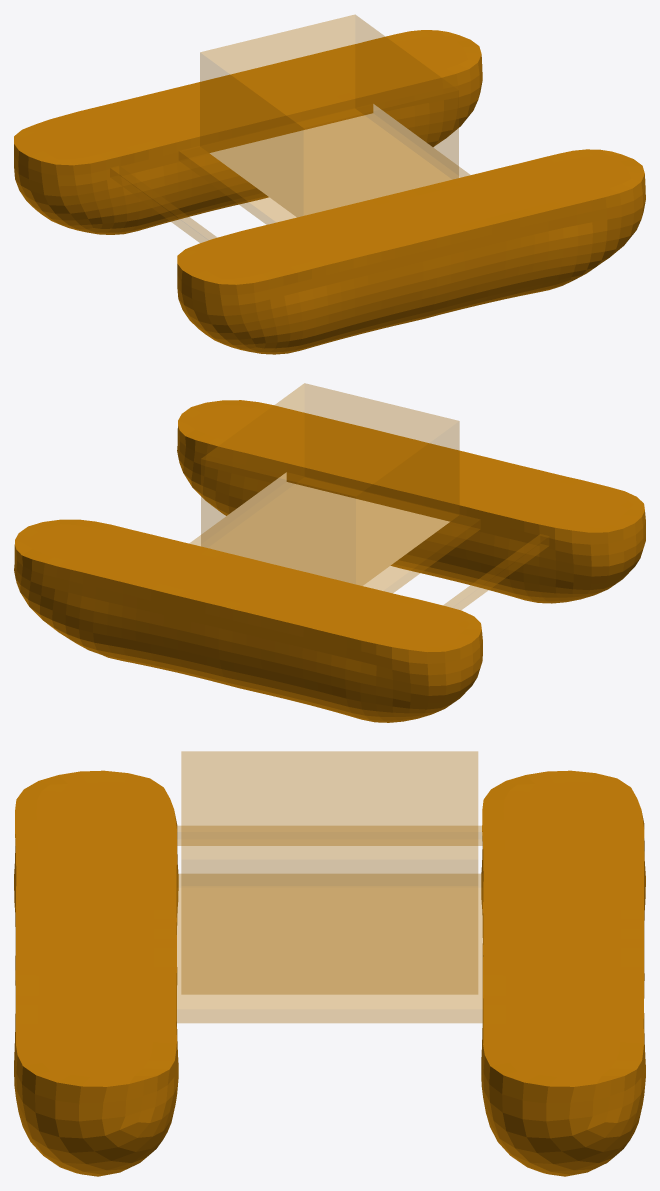
File: omni_boat_collider_simplified.obj
The picture shows the model from 3 angles, top to bottom: view 1: azimuth 30°, elevation 25°; view 2: azimuth 150°, elevation 25°; view 3: azimuth 270°, elevation 25°; orthographic projection. The views are drawn at different scales.
Parts seen in each view (by area): view 1: left_hull_collision, right_hull_collision, electrical_box_collision, electrical_box_mount_collision, sensor_rail_collision; view 2: right_hull_collision, left_hull_collision, electrical_box_collision, electrical_box_mount_collision, sensor_rail_collision; view 3: electrical_box_collision, right_hull_collision, left_hull_collision, electrical_box_mount_collision, sensor_rail_collision.
Boxes of the visible parts, x1=… form: left_hull_collision: x1=177, y1=149, x2=645, y2=354; right_hull_collision: x1=14, y1=30, x2=482, y2=234; electrical_box_collision: x1=200, y1=14, x2=458, y2=217; electrical_box_mount_collision: x1=179, y1=104, x2=469, y2=224; sensor_rail_collision: x1=110, y1=166, x2=216, y2=242; right_hull_collision: x1=14, y1=519, x2=482, y2=722; left_hull_collision: x1=177, y1=400, x2=645, y2=603; electrical_box_collision: x1=201, y1=383, x2=459, y2=585; electrical_box_mount_collision: x1=189, y1=473, x2=479, y2=592; sensor_rail_collision: x1=443, y1=534, x2=548, y2=609; electrical_box_collision: x1=181, y1=751, x2=477, y2=994; right_hull_collision: x1=481, y1=770, x2=645, y2=1176; left_hull_collision: x1=14, y1=770, x2=178, y2=1176; electrical_box_mount_collision: x1=177, y1=874, x2=482, y2=1022; sensor_rail_collision: x1=177, y1=826, x2=482, y2=845.
Bounding box in the file's own units: 1.06 × 0.4243 × 0.8965.
